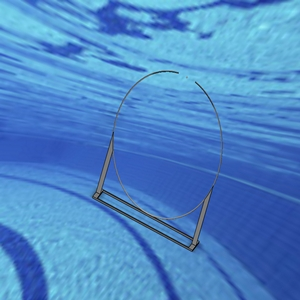circle: (87, 68, 227, 250)
